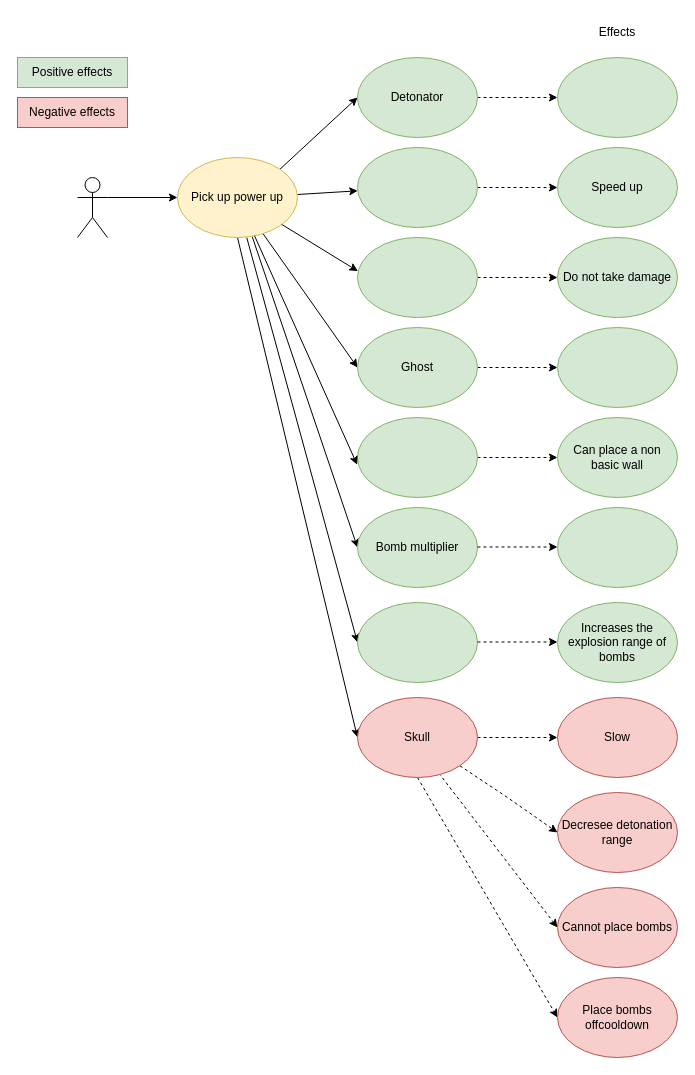
The diagram is 695 pixels wide and 1075 high, and some of its shapes have lost their labels. Here are the shapes that lost their labels. From the top down, the centre of each, then its label:
At (617,97): "Can manually detonate bombs".
At (92,207): "User 1".
At (417,187): "Skate".
At (417,277): "Invulneribility".
At (617,367): "Can go through walls".
At (417,457): "Blocker".
At (617,547): "Increases the maximum number of bombs".
At (417,642): "Range multiplier".
